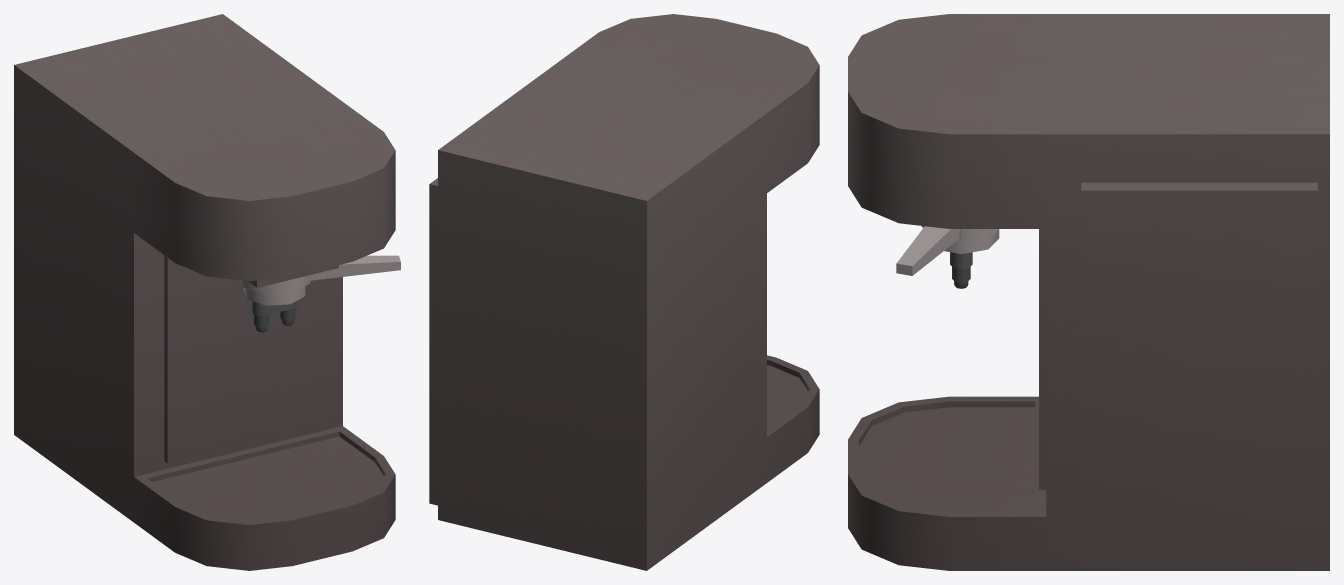
File: CoffeeMachine.fbx
3 renders of one model, left to right at view 1: azimuth 30°, elevation 25°; view 2: azimuth 150°, elevation 25°; view 3: azimuth 270°, elevation 25°, orthographic. The views are drawn at different scales.
Parts seen in each view (by area): view 1: Kit_1_CoffeeMachine; view 2: Kit_1_CoffeeMachine; view 3: Kit_1_CoffeeMachine.
Boxes of the visible parts, <box> form: Kit_1_CoffeeMachine: <box>14,14,400,570</box>; Kit_1_CoffeeMachine: <box>429,14,819,570</box>; Kit_1_CoffeeMachine: <box>848,14,1329,570</box>.
Size of the model in its own units: 20.6 by 32.72 by 32.72.
